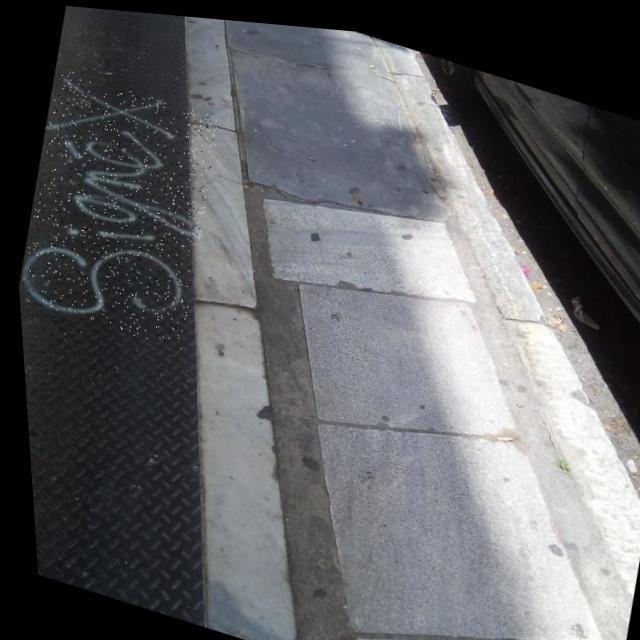-: (3, 63, 230, 351)
